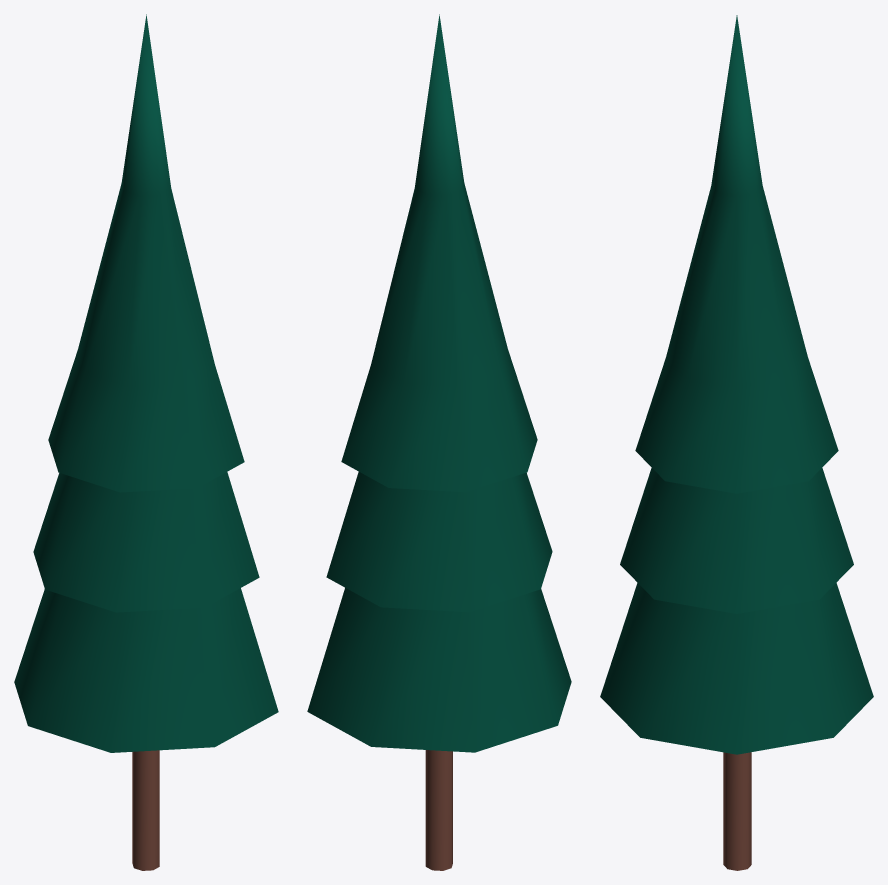
The model's file is tree1.fbx.
3 views of the same model, side by side, from view 1: azimuth 30°, elevation 25°; view 2: azimuth 150°, elevation 25°; view 3: azimuth 270°, elevation 25° (orthographic).
Visible parts, largest first — view 1: Firtree_1_2; view 2: Firtree_1_2; view 3: Firtree_1_2.
Boxes of the visible parts, box(x1,y1,x2,y2) form: Firtree_1_2: box(14, 14, 278, 870); Firtree_1_2: box(307, 14, 571, 870); Firtree_1_2: box(600, 15, 873, 870).
Size of the model in its own units: 261 by 894 by 261.
